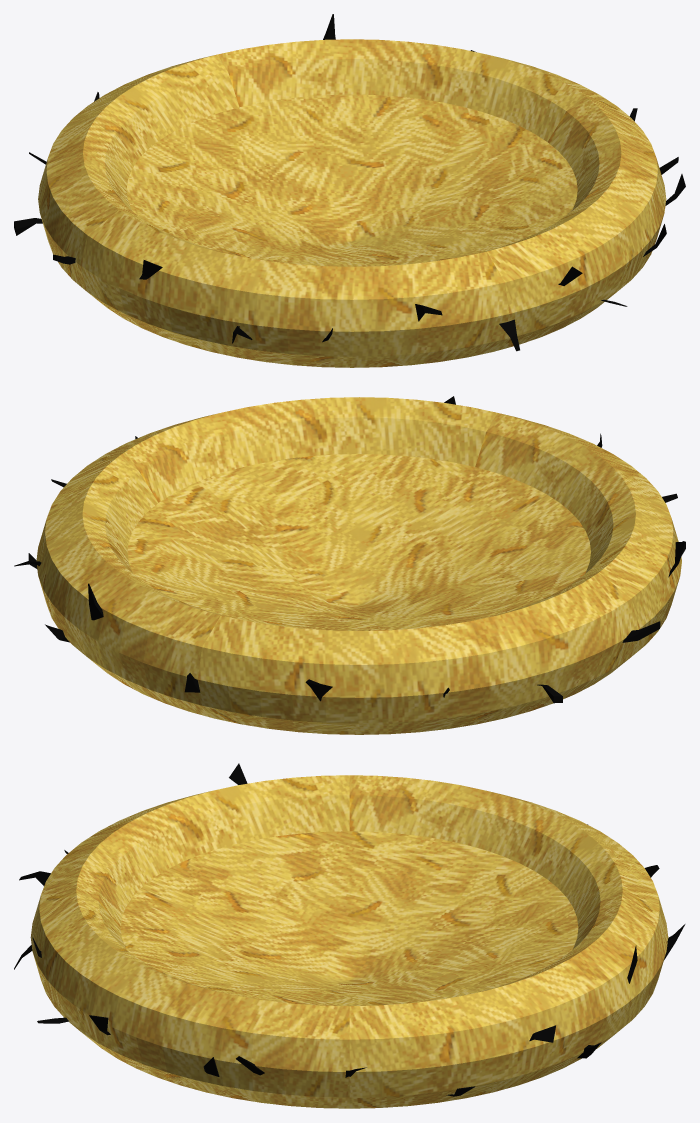
The model's file is Nido.fbx.
3 renders of one model, top to bottom at view 1: azimuth 30°, elevation 25°; view 2: azimuth 150°, elevation 25°; view 3: azimuth 270°, elevation 25°, orthographic. The views are drawn at different scales.
Visible parts, largest first — view 1: Nido; view 2: Nido; view 3: Nido.
Part boxes in pixels (bbox=[...]): Nido: bbox=[14, 14, 685, 367]; Nido: bbox=[14, 396, 685, 734]; Nido: bbox=[14, 763, 685, 1108].
Bounding box in the file's own units: 10816 × 10537 × 1912.
Materials: 2 (1 with a texture image).
